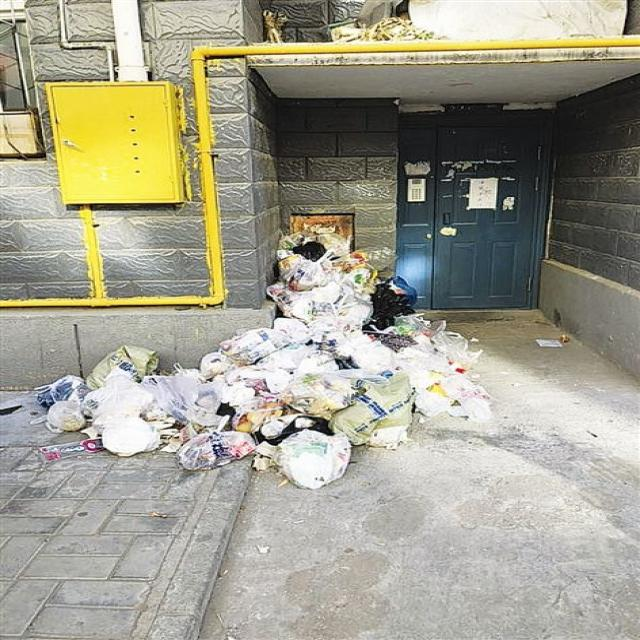garbage: (31, 222, 491, 490)
